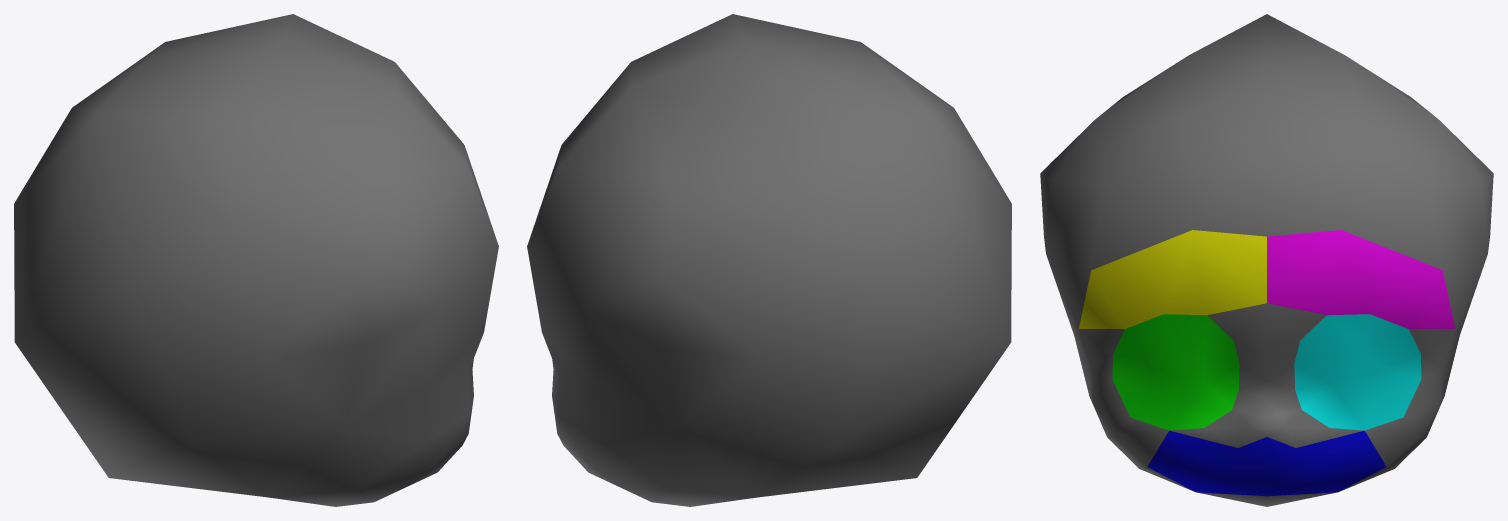
File: head.dae
3 views of the same model, side by side, from view 1: azimuth 30°, elevation 25°; view 2: azimuth 150°, elevation 25°; view 3: azimuth 270°, elevation 25° (orthographic). The views are drawn at different scales.
Visible parts, largest first — view 1: unrea_head; view 2: unrea_head; view 3: unrea_head.
Boxes of the visible parts, bbox=[...] form: unrea_head: bbox=[14, 14, 498, 506]; unrea_head: bbox=[527, 14, 1011, 506]; unrea_head: bbox=[1040, 14, 1493, 506].
Size of the model in its own units: 0.292 by 0.2986 by 0.2941.
